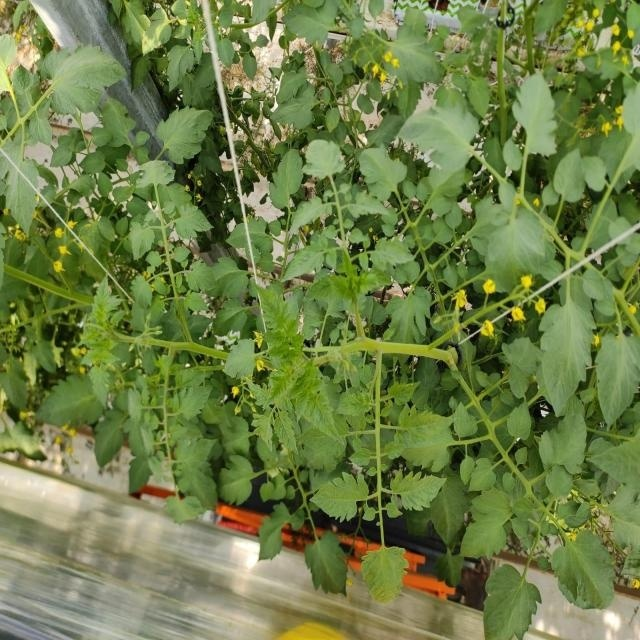T_L_H: (542, 300, 593, 414), (45, 46, 126, 115), (159, 107, 212, 162), (101, 99, 131, 145), (51, 132, 87, 166)
T_L_R: (291, 362, 337, 435), (312, 474, 370, 522)
